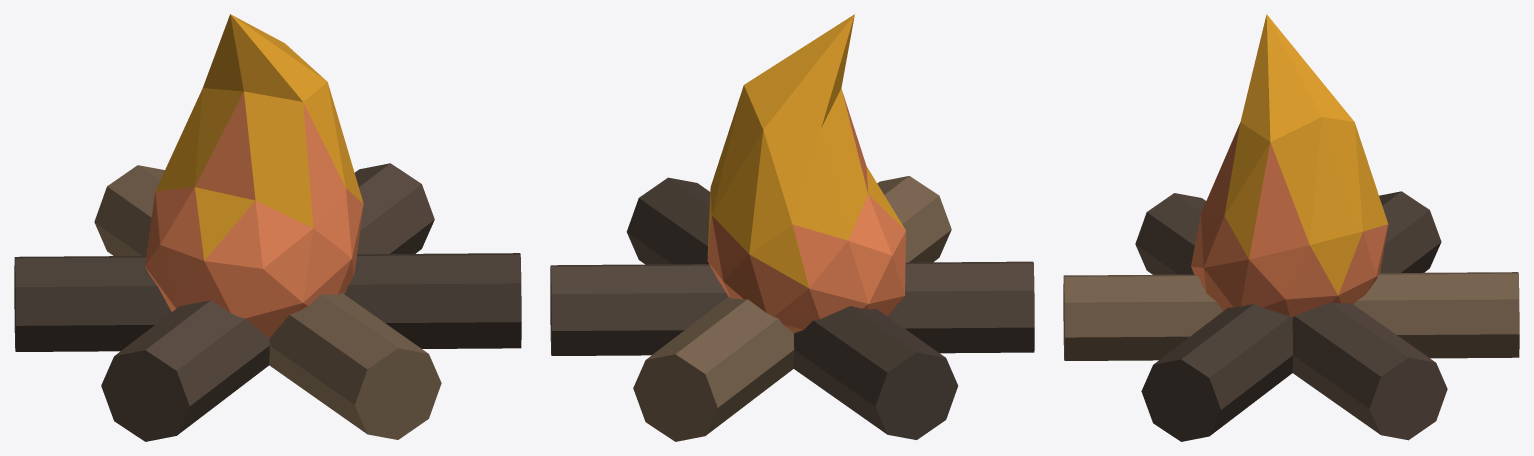
File: Fire.fbx
3 views of the same model, side by side, from view 1: azimuth 30°, elevation 25°; view 2: azimuth 150°, elevation 25°; view 3: azimuth 270°, elevation 25° (orthographic). The views are drawn at different scales.
Parts seen in each view (by area): view 1: Icosphere.002; view 2: Icosphere.002; view 3: Icosphere.002.
Boxes of the visible parts, x1=… form: Icosphere.002: x1=14, y1=14, x2=521, y2=441; Icosphere.002: x1=550, y1=14, x2=1034, y2=441; Icosphere.002: x1=1063, y1=14, x2=1519, y2=441.
Bounding box in the file's own units: 209 × 168 × 216.
